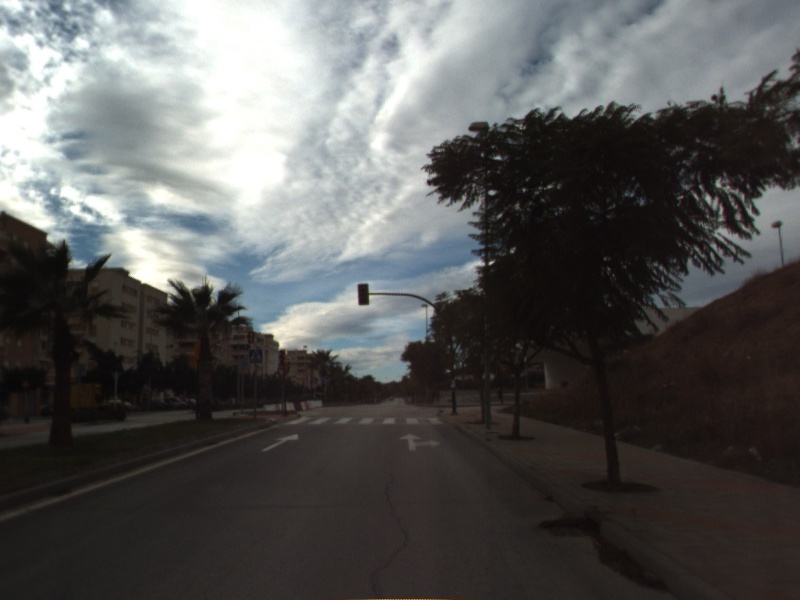STRAIGHT: (259, 432, 301, 454)
STRAIGHT_RIGHT: (397, 431, 443, 453)
